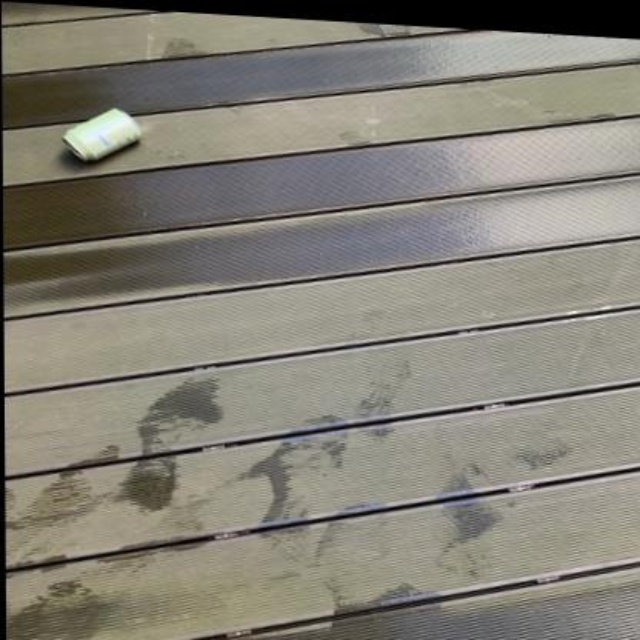trash: (62, 108, 140, 160)
